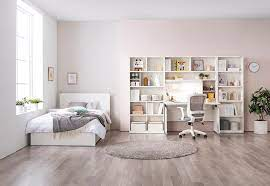Bed: (28, 89, 114, 146)
Chair: (177, 92, 209, 141)
